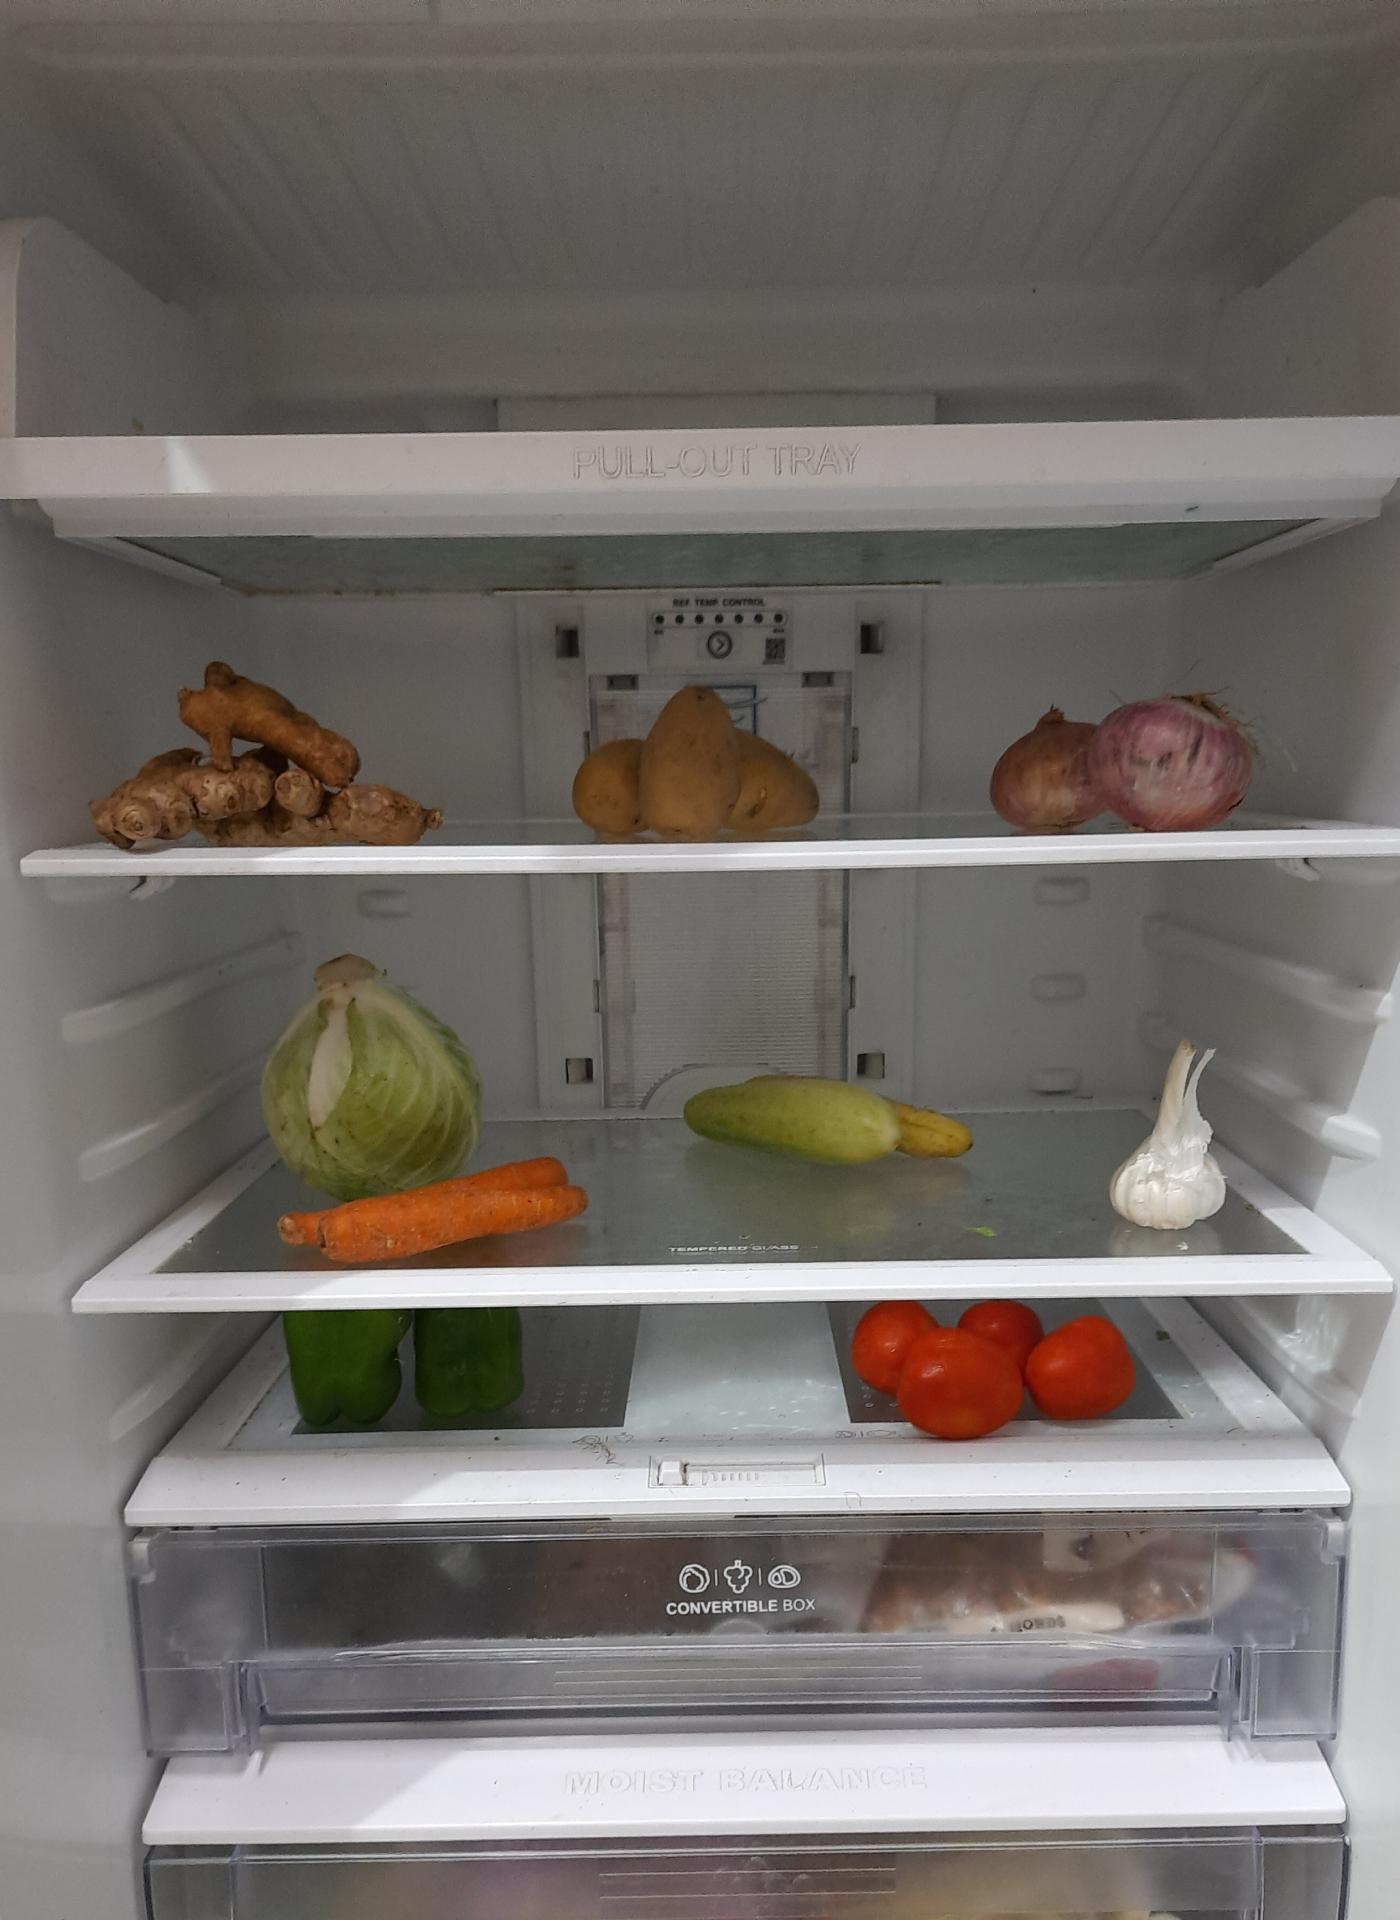cabbage: (256, 959, 485, 1191)
capsicum: (273, 1310, 511, 1422)
carrots: (276, 1155, 595, 1254)
cucumber: (686, 1066, 975, 1167)
garlic: (1114, 1035, 1226, 1234)
ginger: (91, 666, 441, 851)
onion: (987, 683, 1252, 824)
potato: (583, 684, 816, 832)
tomato: (832, 1300, 1142, 1441)
